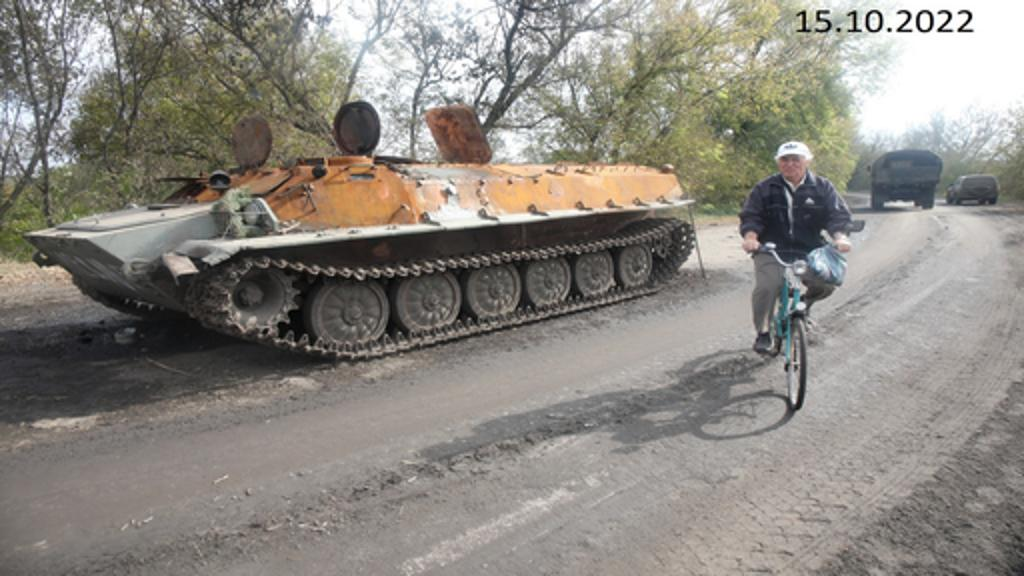APC-IFV: (22, 102, 704, 376)
CAR: (940, 166, 1000, 206)
TRUCK: (860, 140, 940, 212)
